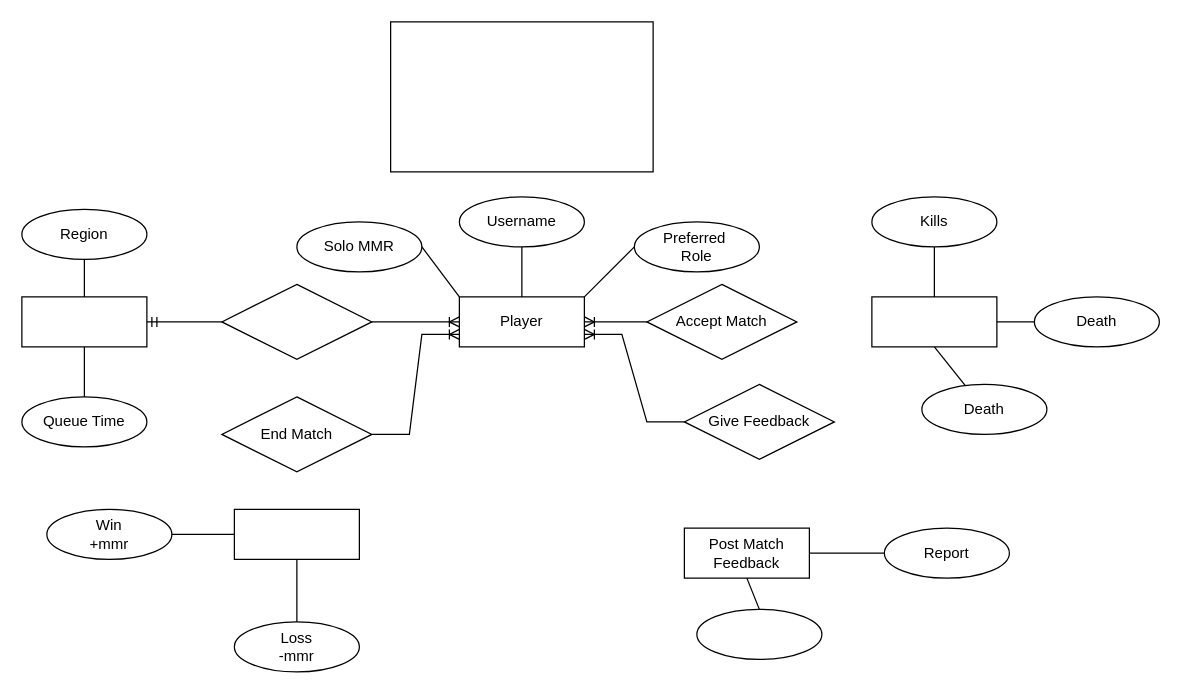
Image size: 1181x694. Some labels were removed from this diagram. Here are the shapes that lost their labels. From the top down, the box of each, then its label:
(389, 21, 653, 172): DOTA 2 Solo Rank Match ERD
(21, 296, 147, 347): Ranked Queue
(221, 283, 372, 359): Find Match
(871, 296, 997, 347): Gameplay
(233, 508, 359, 559): Finish Game
(696, 608, 822, 659): Commend
